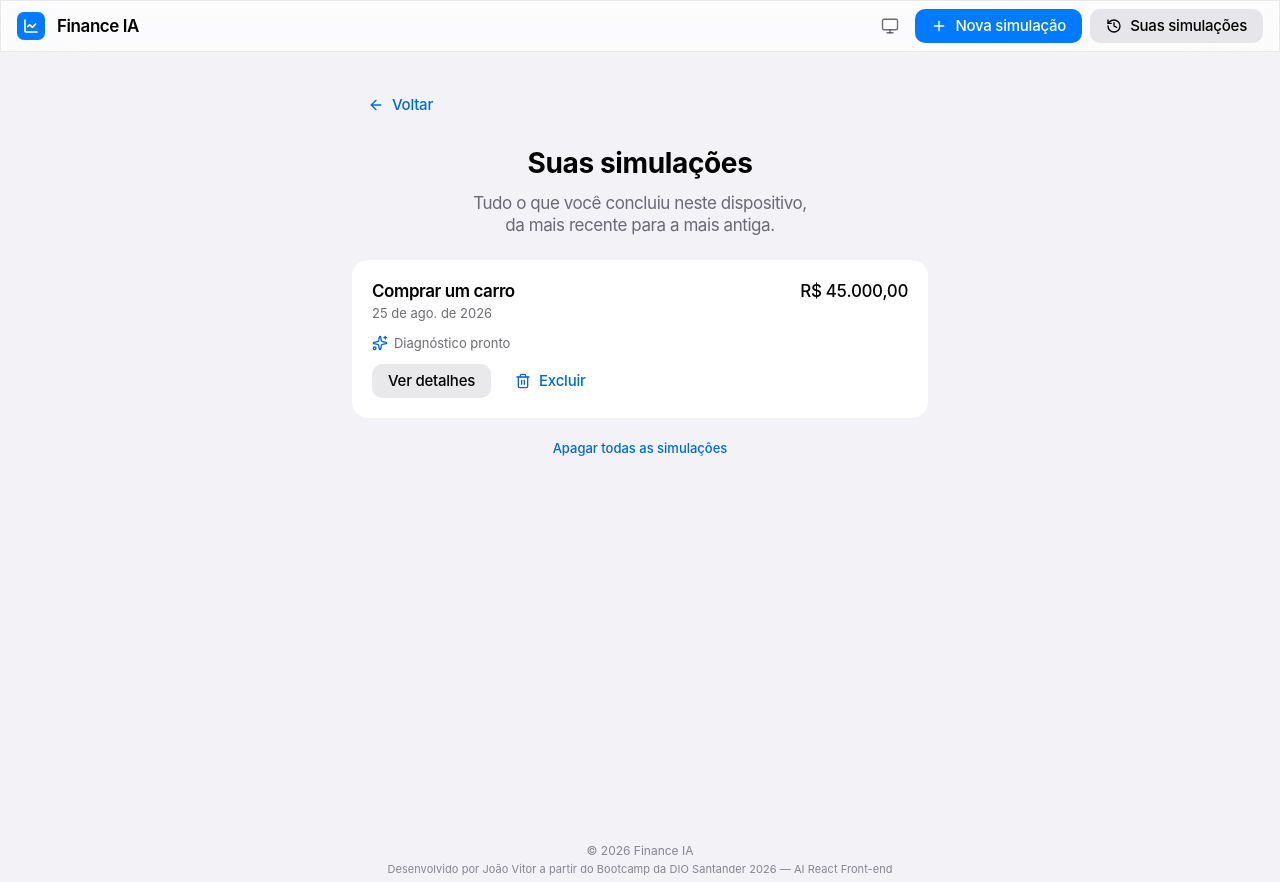
Test: histórico e navegação › AC-030: Abrir uma simulação leva ao resultado dela @spec:AC-030
Click the button "Ver detalhes": (432, 381) left=372, top=364, right=491, bottom=398
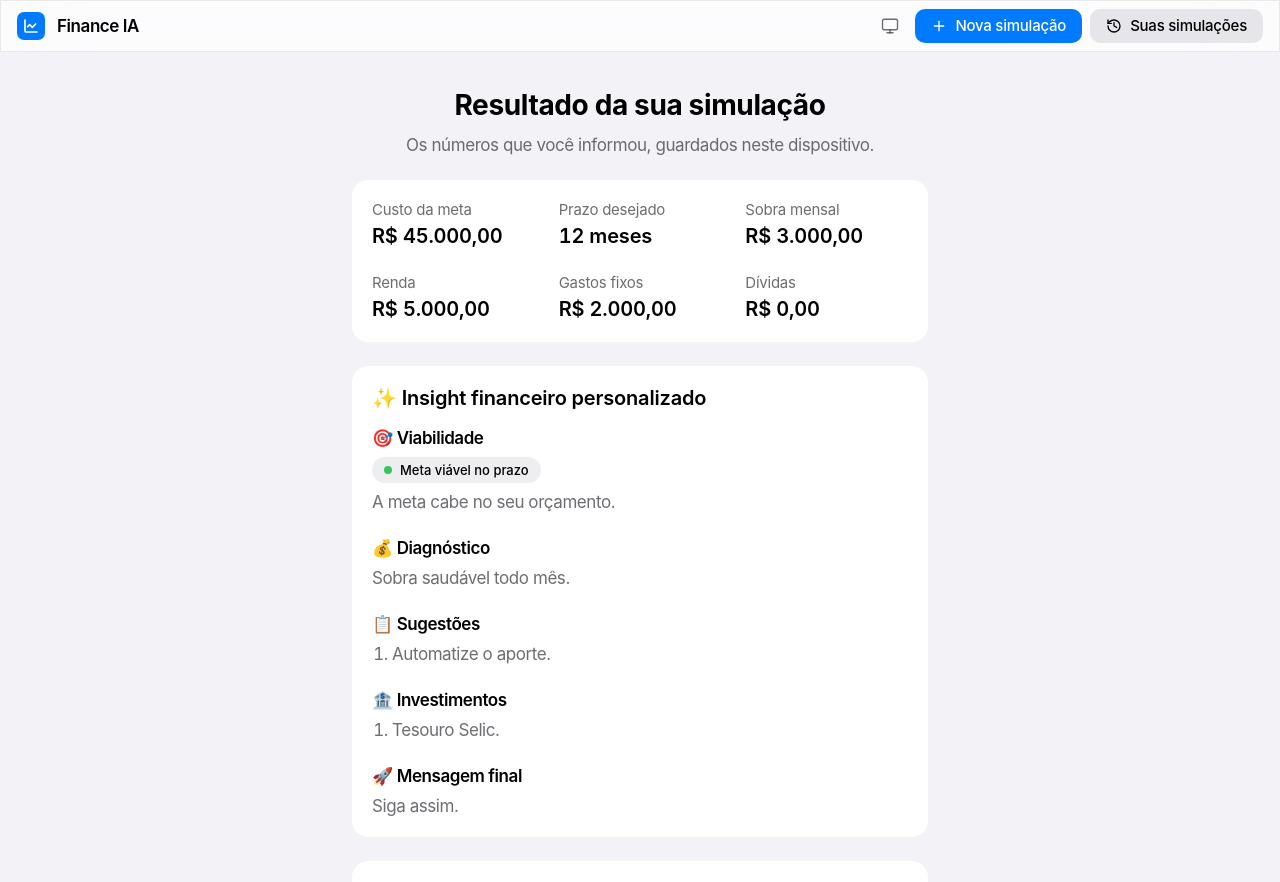
Check: the heading "Resultado da sua simulação" is shown, box left=454, top=88, right=826, bottom=122
